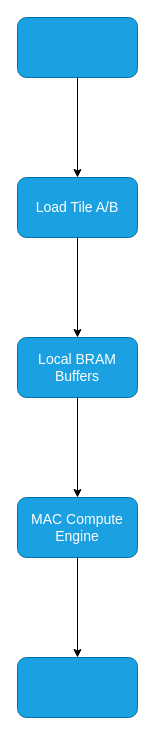
This 155x735 diagram has some shape labels left out. The shapes that lost their labels are listed below. From the top down, each one's box as (x1, y1, x2, y2) in pixels, then its label:
(16, 16, 138, 78): External Memory
(16, 656, 138, 718): Output Tile
